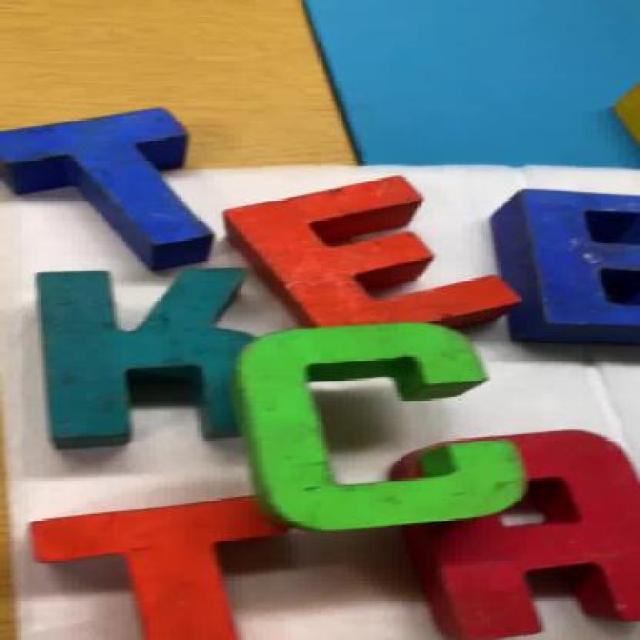A: (410, 424, 635, 640)
C: (240, 322, 505, 532)
E: (247, 178, 521, 338)
K: (31, 273, 283, 456)
T: (8, 109, 210, 262)
